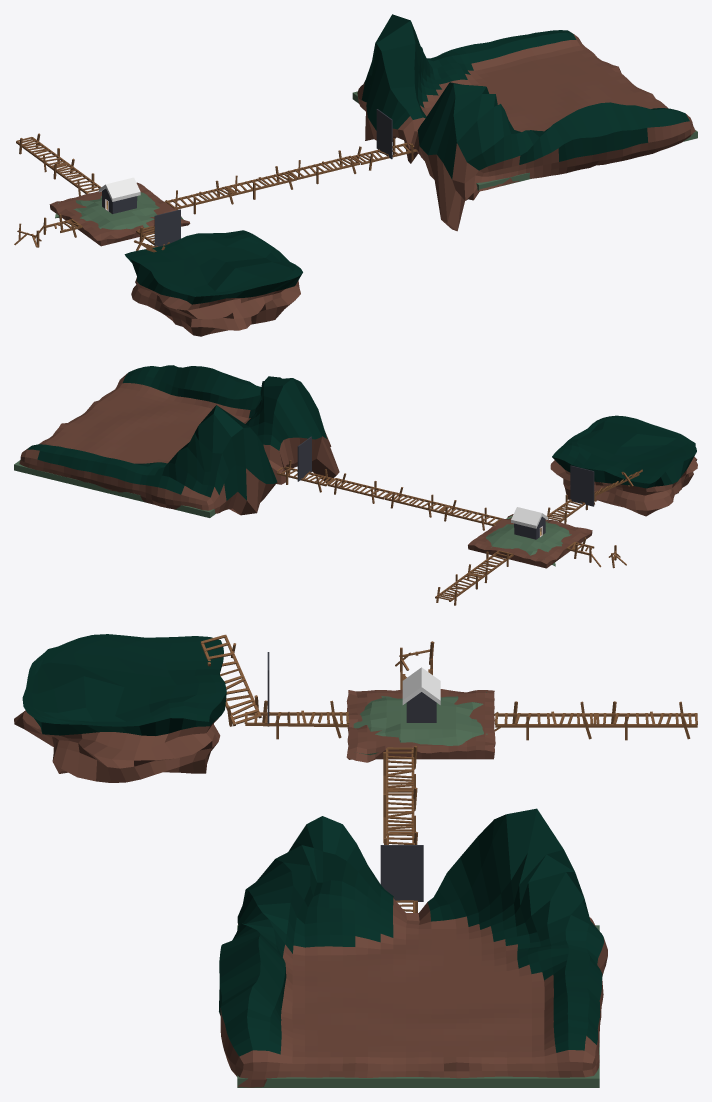
Rendered from Map3 1.fbx.
The picture shows the model from 3 angles, top to bottom: view 1: azimuth 30°, elevation 25°; view 2: azimuth 150°, elevation 25°; view 3: azimuth 270°, elevation 25°; orthographic projection. The views are drawn at different scales.
Visible parts, largest first — view 1: Plane.003, Plane.002, DirtMainLand, MainLand, BiggerBridge.001, BiggerBridge, Plane.005, LittleBridge, Plane.004, Roof, LittleBridge.001, BrokenBridge (+1 smaller); view 2: Plane.003, Plane.002, DirtMainLand, MainLand, BiggerBridge.001, BiggerBridge, Cube.009, Plane.005, LittleBridge, Plane.004, LittleBridge.001, Roof (+3 smaller); view 3: Plane.003, Plane.002, DirtMainLand, MainLand, Cube.009, BiggerBridge, BiggerBridge.001, Plane.004, Bridge.001, Bridge, Roof, Base.
Part boxes in pixels (x1,y1,x2,y2): Plane.003: [357, 14, 695, 231]; Plane.002: [124, 230, 302, 336]; DirtMainLand: [49, 182, 190, 246]; MainLand: [55, 192, 183, 229]; BiggerBridge.001: [164, 166, 296, 214]; BiggerBridge: [16, 133, 101, 196]; Plane.005: [154, 209, 180, 246]; LittleBridge: [287, 150, 359, 184]; Plane.004: [376, 109, 392, 159]; Roof: [99, 177, 140, 201]; LittleBridge.001: [351, 138, 417, 170]; BrokenBridge: [14, 214, 82, 247]; Plane.003: [19, 365, 339, 515]; Plane.002: [550, 415, 697, 516]; DirtMainLand: [468, 514, 592, 568]; MainLand: [486, 515, 571, 566]; BiggerBridge.001: [384, 487, 502, 530]; BiggerBridge: [435, 550, 513, 605]; Cube.009: [14, 460, 215, 517]; Plane.005: [570, 465, 594, 506]; LittleBridge: [327, 473, 391, 503]; Plane.004: [297, 436, 311, 481]; LittleBridge.001: [276, 460, 334, 492]; Roof: [511, 507, 548, 528]; Plane.003: [219, 808, 607, 1087]; Plane.002: [14, 634, 226, 782]; DirtMainLand: [346, 689, 495, 762]; MainLand: [353, 692, 487, 755]; Cube.009: [237, 925, 599, 1087]; BiggerBridge: [493, 701, 697, 740]; BiggerBridge.001: [383, 746, 417, 843]; Plane.004: [380, 845, 423, 901]; Bridge.001: [200, 634, 261, 726]; Bridge: [244, 700, 349, 739]; Roof: [402, 667, 440, 704]; Base: [406, 692, 436, 722].
Size of what is drawn, in the model's own units: 199 by 42.36 by 132.
